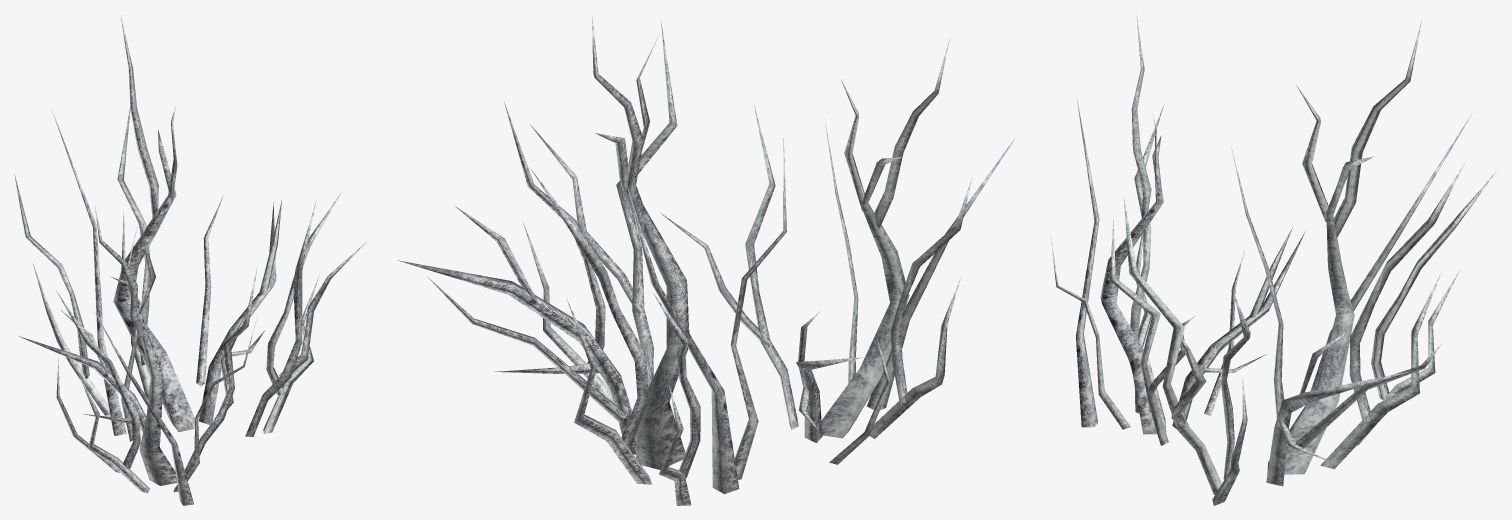
The model's file is S_Tree_White020.FBX.
3 views of the same model, side by side, from view 1: azimuth 30°, elevation 25°; view 2: azimuth 150°, elevation 25°; view 3: azimuth 270°, elevation 25° (orthographic). The views are drawn at different scales.
Parts seen in each view (by area): view 1: S_Tree_White020; view 2: S_Tree_White020; view 3: S_Tree_White020.
Part boxes in pixels (x1=…): S_Tree_White020: x1=14, y1=15, x2=366, y2=505; S_Tree_White020: x1=397, y1=16, x2=1019, y2=505; S_Tree_White020: x1=1050, y1=16, x2=1496, y2=505.
Size of the model in its own units: 521 by 521 by 578.
